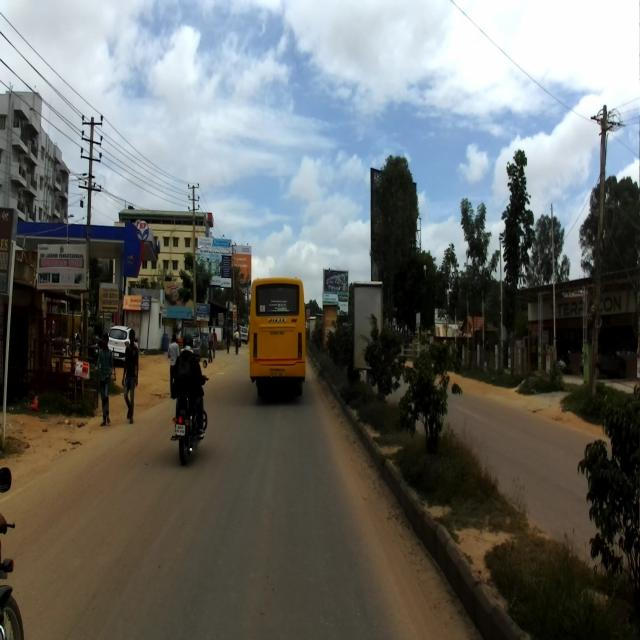bus: (248, 277, 306, 397)
motorcycle_RoyalEnfield: (169, 358, 208, 466)
